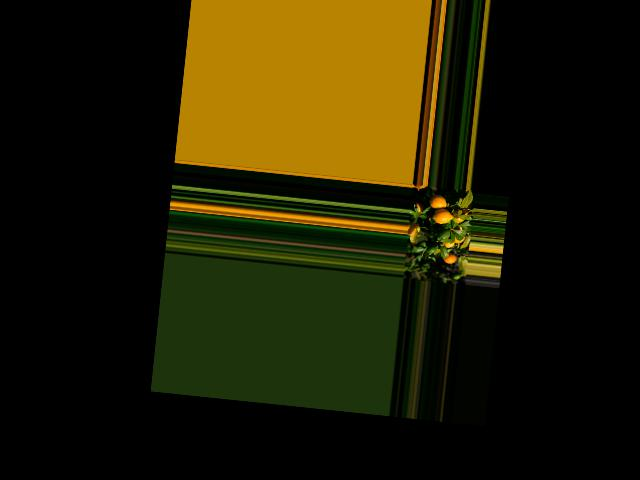lemon: (439, 251, 458, 267)
